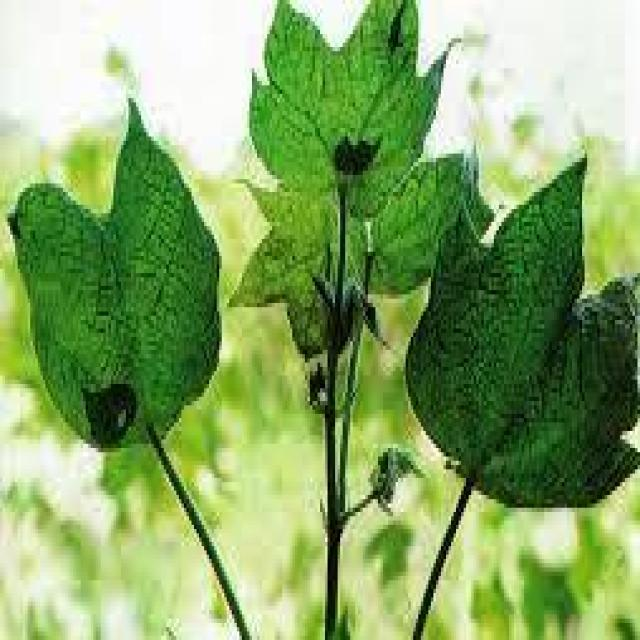Leaf Curl Virus: (110, 197, 488, 575)
